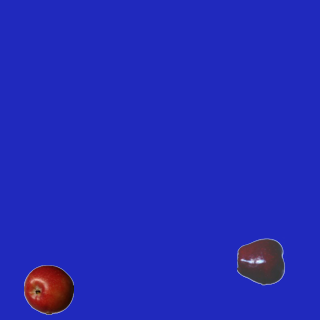Apple Braeburn: (23, 264, 73, 314)
Apple Red Delicious: (236, 236, 286, 286)
